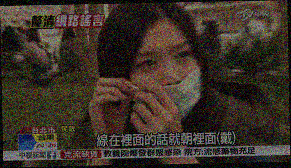mask_weared_incorrect: (130, 36, 205, 124)
